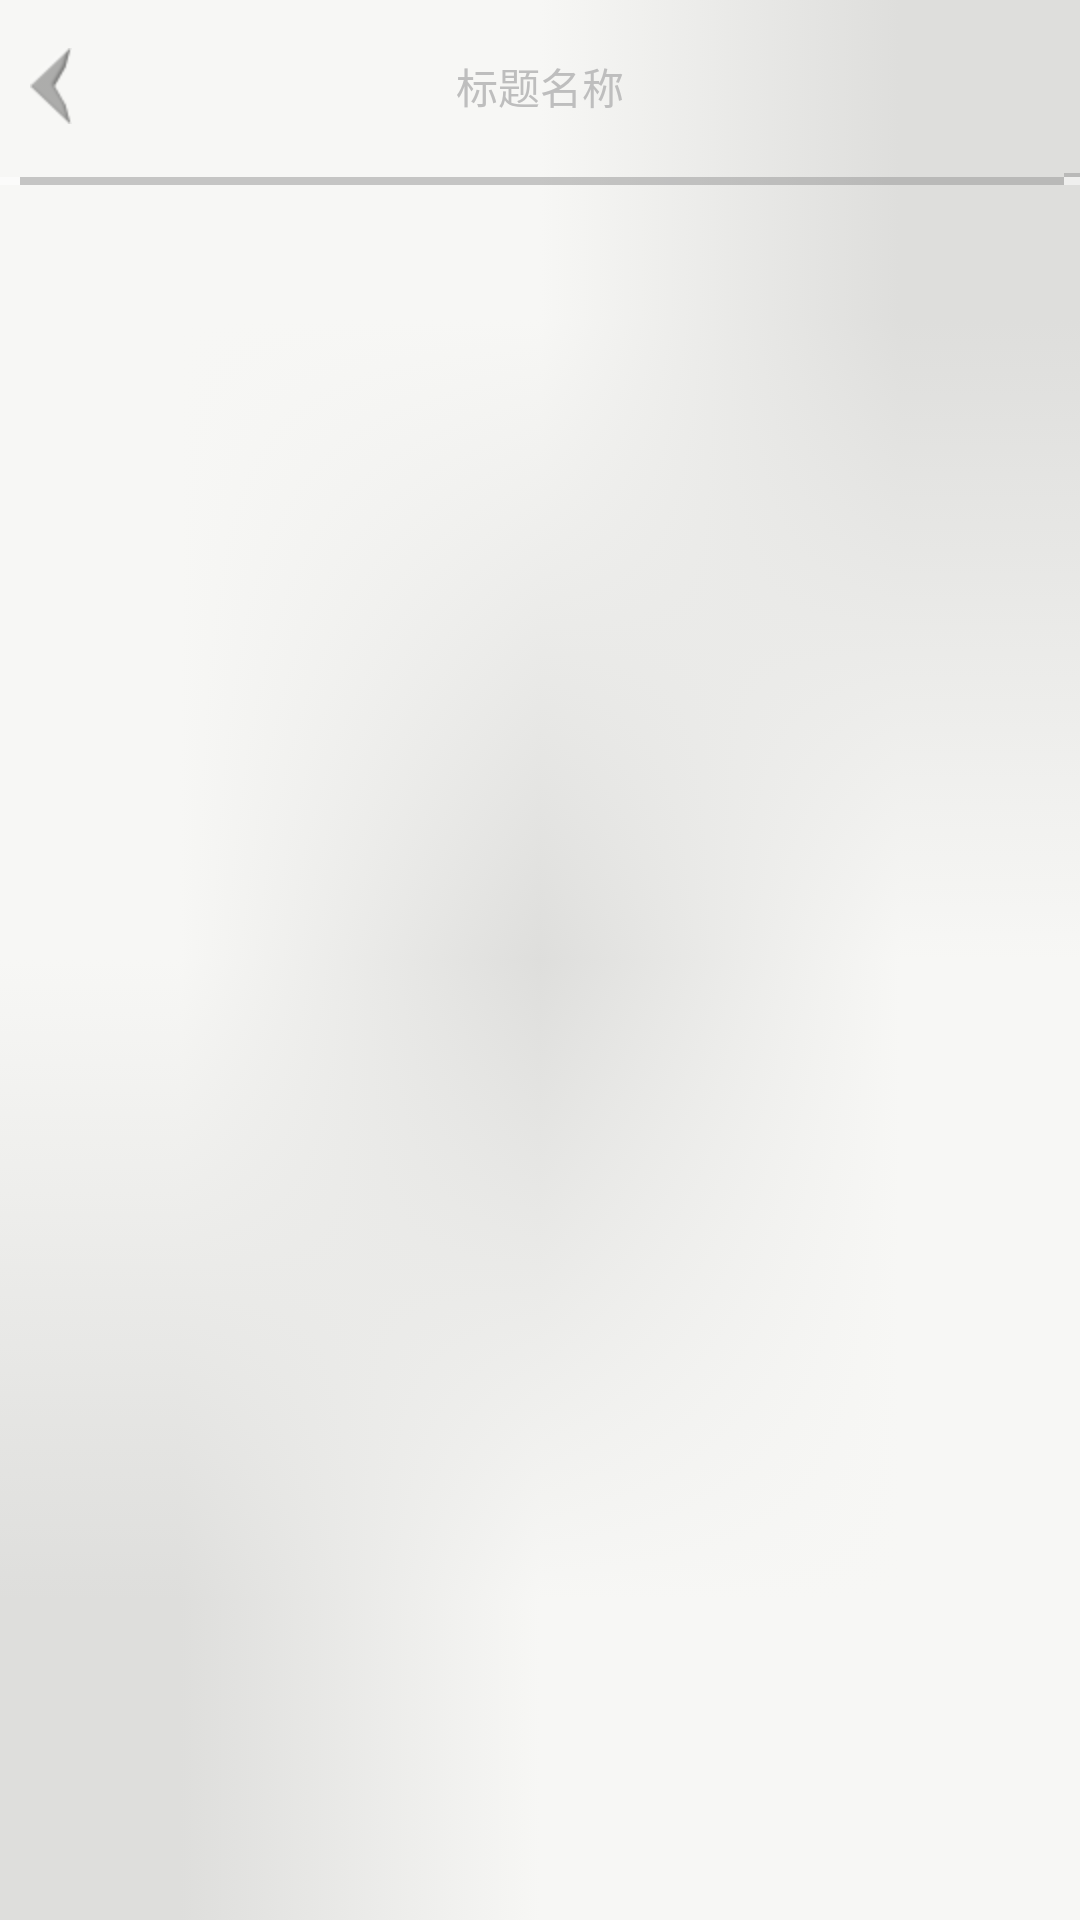

Icon bounding boxes for this 1080 × 1920 phone screenshot, format BBox(x1, y1, x2, y2):
base back: BBox(30, 48, 71, 124)
